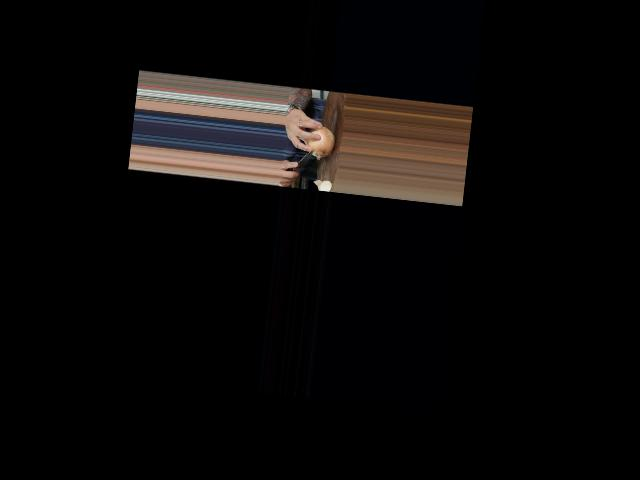onion: (305, 123, 334, 159)
